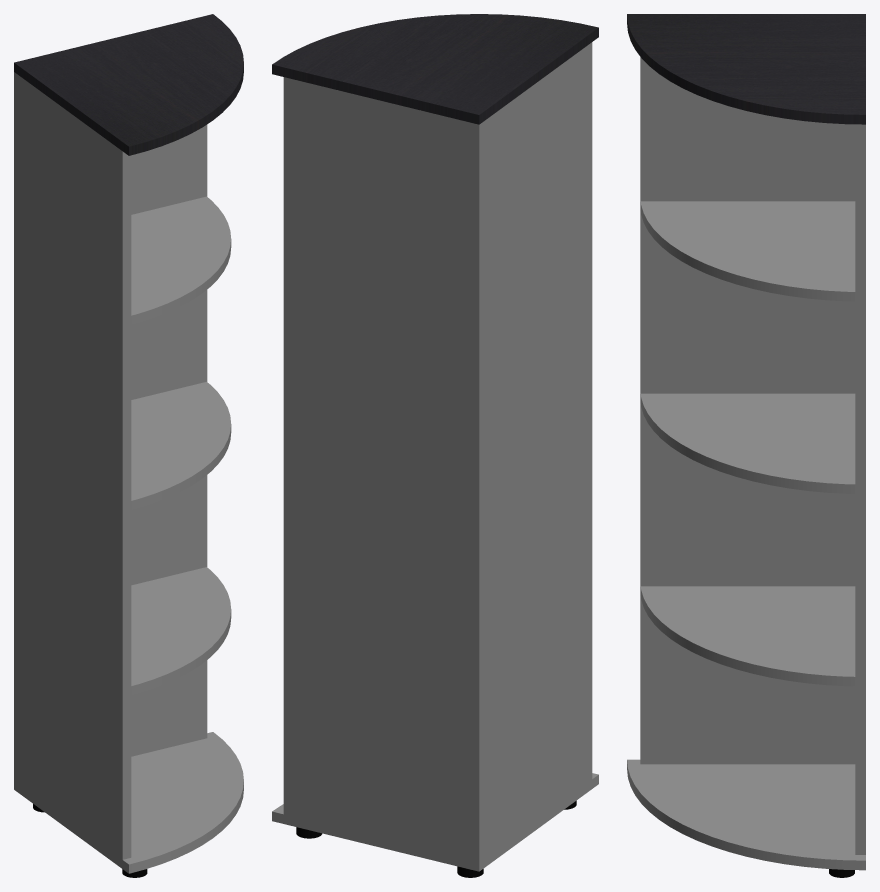
The model's file is angolo160W.obj.
3 views of the same model, side by side, from view 1: azimuth 30°, elevation 25°; view 2: azimuth 150°, elevation 25°; view 3: azimuth 270°, elevation 25° (orthographic). The views are drawn at different scales.
Parts seen in each view (by area): view 1: Line59_3, Cylinder57_6, Cylinder62_2, Cylinder59_4, Cylinder60_1, Cylinder58_5; view 2: Line59_3, Cylinder57_6, Cylinder62_2, Cylinder58_5, Cylinder59_4, Cylinder60_1; view 3: Line59_3, Cylinder57_6, Cylinder62_2, Cylinder59_4, Cylinder60_1, Cylinder58_5.
Part boxes in pixels (left/top/right/bottom): Line59_3: left=14, top=72, right=207, bottom=859; Cylinder57_6: left=14, top=14, right=243, bottom=155; Cylinder62_2: left=14, top=732, right=243, bottom=873; Cylinder59_4: left=14, top=382, right=231, bottom=509; Cylinder60_1: left=14, top=196, right=231, bottom=326; Cylinder58_5: left=16, top=567, right=231, bottom=695; Line59_3: left=283, top=42, right=592, bottom=861; Cylinder57_6: left=272, top=14, right=598, bottom=124; Cylinder62_2: left=272, top=773, right=598, bottom=871; Cylinder58_5: left=480, top=601, right=592, bottom=684; Cylinder59_4: left=484, top=408, right=592, bottom=495; Cylinder60_1: left=488, top=216, right=592, bottom=299; Line59_3: left=640, top=57, right=865, bottom=854; Cylinder57_6: left=627, top=14, right=865, bottom=124; Cylinder62_2: left=627, top=759, right=865, bottom=870; Cylinder59_4: left=640, top=393, right=855, bottom=493; Cylinder60_1: left=640, top=201, right=855, bottom=301; Cylinder58_5: left=640, top=586, right=855, bottom=686.
Size of the model in its own units: 45 by 160 by 45.
